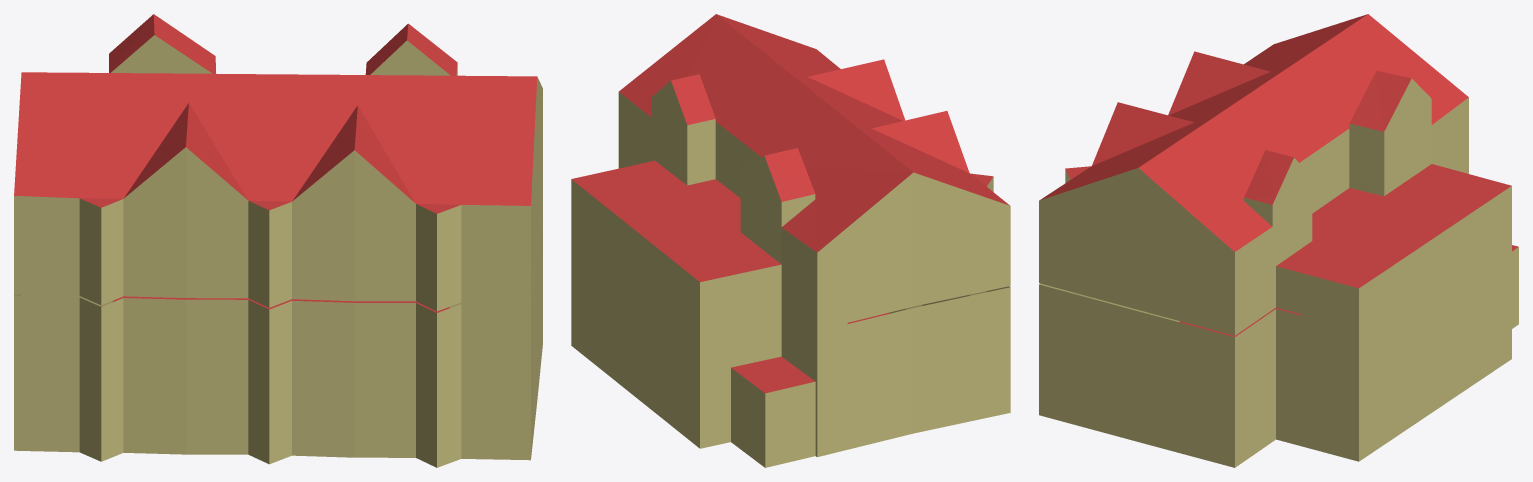
3 renders of one model, left to right at view 1: azimuth 30°, elevation 25°; view 2: azimuth 150°, elevation 25°; view 3: azimuth 270°, elevation 25°, orthographic. The views are drawn at different scales.
Visible parts, largest first — view 1: group_4, group_3, group_9, group_10, group_6, group_7, group_17; view 2: group_4, group_3, group_16, group_15, group_13, group_7, group_10, group_9, group_12, group_6; view 3: group_4, group_16, group_3, group_15, group_10, group_7, group_9, group_6, group_13.
Boxes of the visible parts, bbox=[...] form: group_4: bbox=[14, 77, 542, 467]; group_3: bbox=[14, 72, 537, 213]; group_9: bbox=[109, 14, 216, 73]; group_10: bbox=[111, 35, 211, 73]; group_6: bbox=[365, 23, 457, 75]; group_7: bbox=[370, 40, 457, 307]; group_17: bbox=[113, 296, 449, 312]; group_4: bbox=[618, 92, 1010, 457]; group_3: bbox=[619, 14, 1009, 252]; group_16: bbox=[571, 179, 781, 448]; group_15: bbox=[571, 160, 781, 281]; group_13: bbox=[731, 368, 815, 467]; group_7: bbox=[652, 81, 715, 185]; group_10: bbox=[740, 156, 815, 264]; group_9: bbox=[764, 148, 815, 201]; group_12: bbox=[731, 356, 815, 393]; group_6: bbox=[671, 74, 715, 125]; group_4: bbox=[1039, 97, 1468, 467]; group_16: bbox=[1276, 186, 1511, 461]; group_3: bbox=[1039, 14, 1468, 251]; group_15: bbox=[1276, 164, 1511, 288]; group_10: bbox=[1349, 78, 1431, 195]; group_7: bbox=[1244, 157, 1312, 441]; group_9: bbox=[1349, 70, 1411, 131]; group_6: bbox=[1244, 150, 1293, 204]; group_13: bbox=[1512, 247, 1518, 328].
Bounding box in the file's own units: 33.17 × 32.26 × 20.34.
